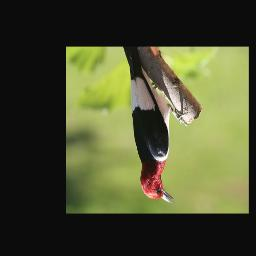Woodpecker: (121, 47, 179, 206)
